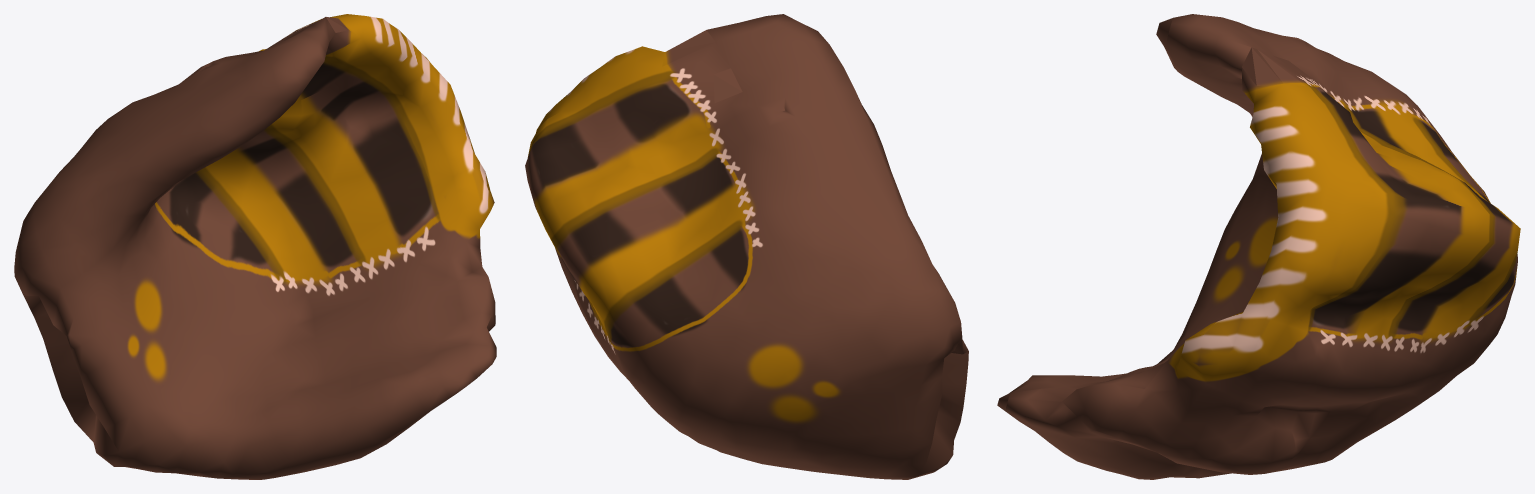
File: baseball-glove.dae
3 views of the same model, side by side, from view 1: azimuth 30°, elevation 25°; view 2: azimuth 150°, elevation 25°; view 3: azimuth 270°, elevation 25° (orthographic). The views are drawn at different scales.
Visible parts, largest first — view 1: Baseball Glove; view 2: Baseball Glove; view 3: Baseball Glove.
Part boxes in pixels (box(x1,y1,x2,y2)): Baseball Glove: box(14, 14, 496, 479); Baseball Glove: box(525, 14, 968, 479); Baseball Glove: box(997, 14, 1520, 479).
Bounding box in the file's own units: 2.23 × 2.05 × 2.05.
1 material, 1 textured.
